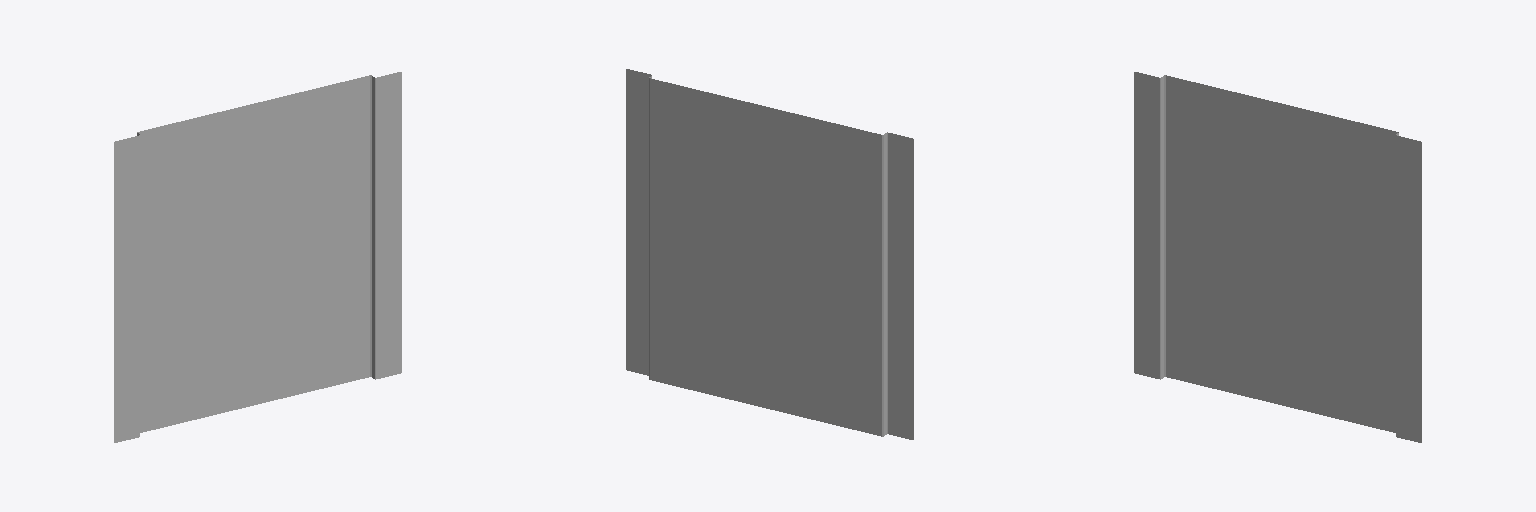
Rendered from Wall_01_OBJ.obj.
3 views of the same model, side by side, from view 1: azimuth 30°, elevation 25°; view 2: azimuth 150°, elevation 25°; view 3: azimuth 330°, elevation 25° (orthographic).
Visible parts, largest first — view 1: pasted__polySurface88; view 2: pasted__polySurface88; view 3: pasted__polySurface88.
Boxes of the visible parts, box(x1,y1,x2,y2) form: pasted__polySurface88: box(114, 72, 401, 442); pasted__polySurface88: box(626, 69, 913, 439); pasted__polySurface88: box(1134, 72, 1421, 442).
Size of the model in its own units: 450 by 450 by 10.84.